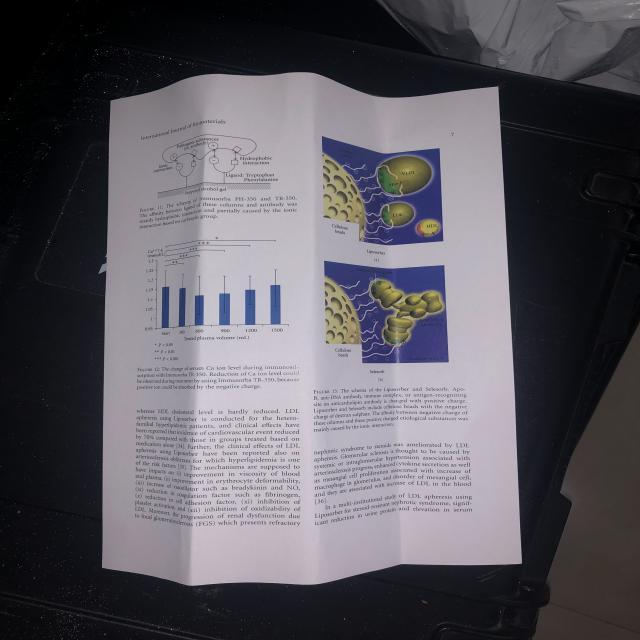kertas: (98, 71, 521, 586)
